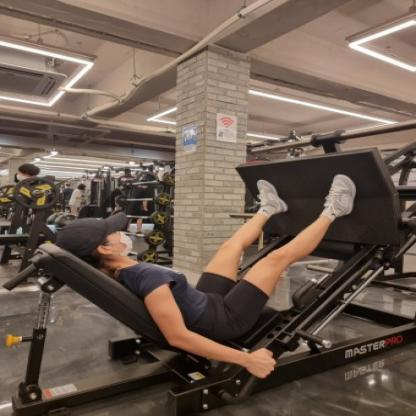leg press: (0, 137, 415, 416)
